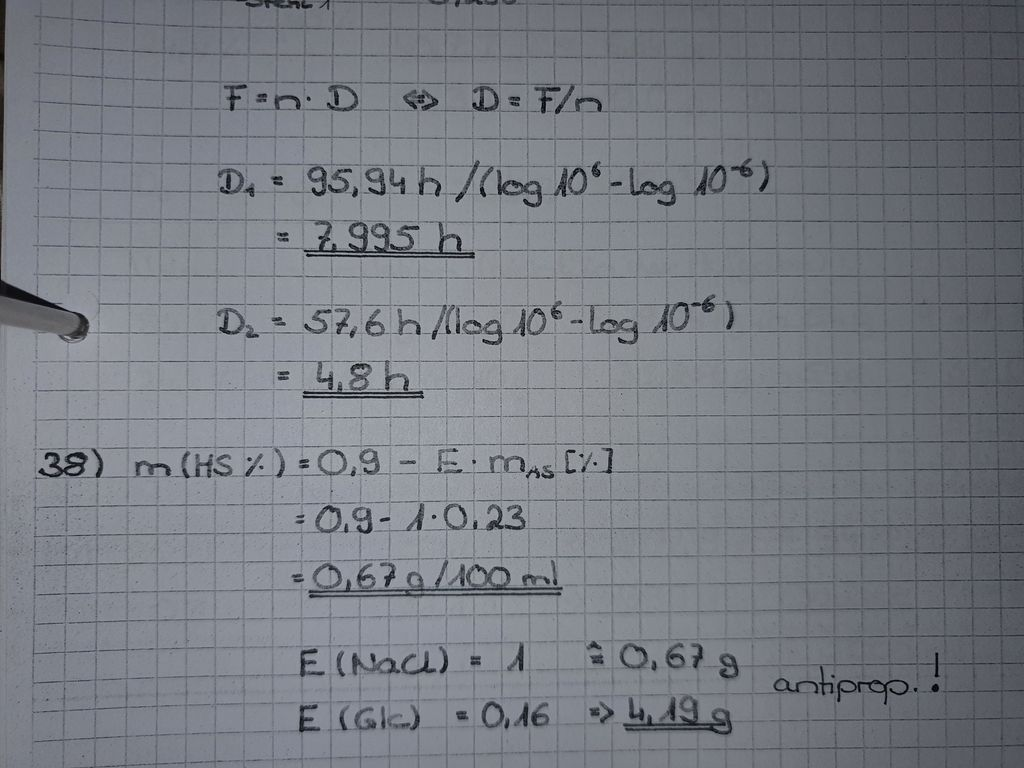equals: (577, 636, 611, 672), (265, 305, 292, 336), (446, 702, 478, 727), (463, 647, 490, 672), (500, 88, 528, 112), (272, 222, 298, 247), (263, 164, 288, 189), (286, 508, 314, 529), (289, 564, 310, 587), (271, 364, 295, 384), (291, 451, 311, 475), (251, 86, 272, 106)
equation: (203, 283, 743, 344), (202, 145, 779, 201), (287, 625, 751, 685), (119, 433, 629, 484), (288, 546, 570, 610), (278, 491, 546, 540), (290, 691, 560, 738), (263, 210, 483, 266), (263, 351, 439, 405), (462, 69, 612, 124), (213, 73, 364, 119)
fraction: (299, 154, 777, 202), (300, 292, 739, 338)
separator: (392, 452, 422, 472), (560, 313, 587, 333), (604, 175, 628, 193), (373, 510, 395, 529)
term: (316, 441, 617, 481), (308, 554, 567, 598), (315, 496, 530, 534), (294, 637, 453, 679), (304, 218, 470, 257), (130, 440, 284, 479), (618, 637, 742, 682), (297, 697, 425, 734), (305, 358, 421, 398), (529, 79, 607, 119), (273, 81, 360, 113), (482, 700, 553, 733), (214, 156, 270, 196), (215, 298, 261, 339), (497, 635, 534, 677), (467, 79, 501, 119), (221, 79, 250, 113)
